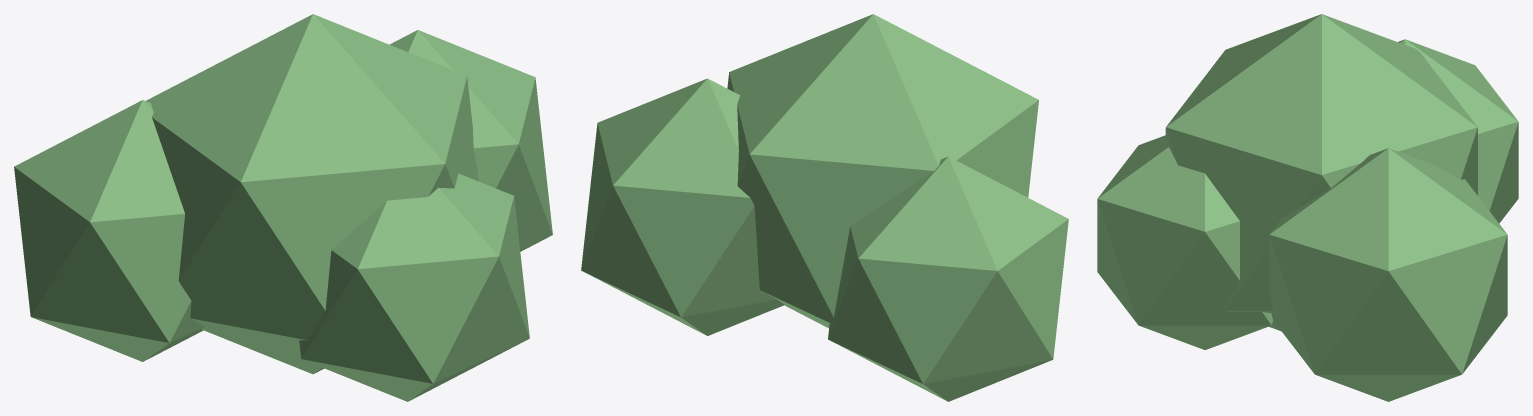
3 views of the same model, side by side, from view 1: azimuth 30°, elevation 25°; view 2: azimuth 150°, elevation 25°; view 3: azimuth 270°, elevation 25° (orthographic). The views are drawn at different scales.
Visible parts, largest first — view 1: b0, b3, b2, b1; view 2: b0, b2, b1; view 3: b1, b0, b3, b2.
Boxes of the visible parts, x1,y1,x2,y2 form: b0: (146, 14, 478, 374); b3: (299, 173, 529, 401); b2: (14, 100, 203, 361); b1: (389, 30, 552, 251); b0: (727, 14, 1038, 328); b2: (828, 156, 1068, 401); b1: (581, 78, 784, 335); b1: (1269, 148, 1507, 401); b0: (1165, 14, 1477, 330); b3: (1097, 135, 1273, 349); b2: (1398, 39, 1518, 223).
Size of the model in its own units: 1.58 by 1.1 by 1.26.
